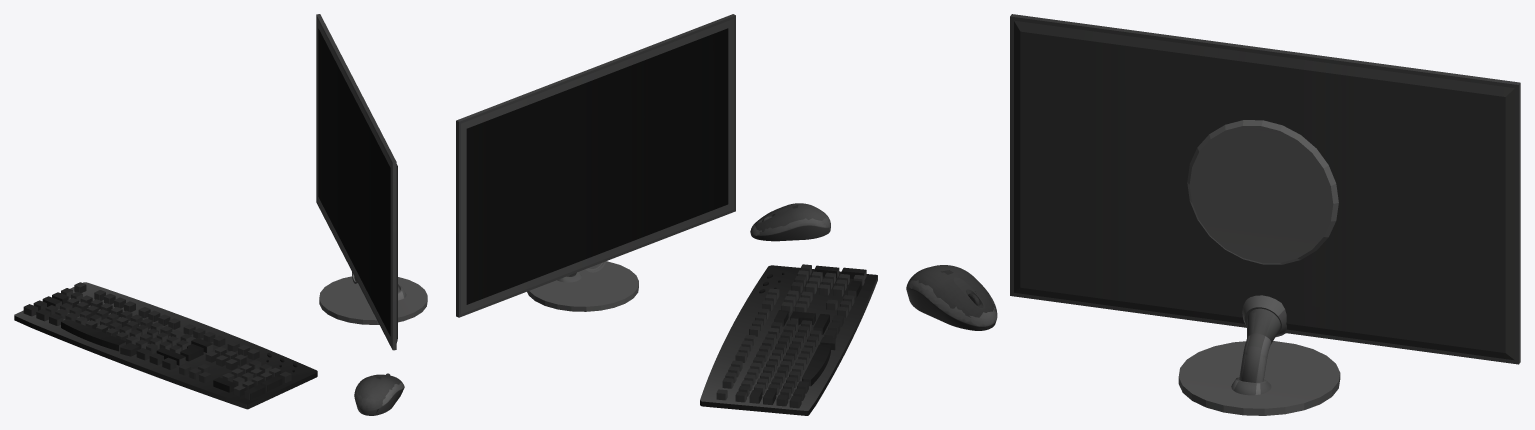
3 renders of one model, left to right at view 1: azimuth 30°, elevation 25°; view 2: azimuth 150°, elevation 25°; view 3: azimuth 270°, elevation 25°, orthographic. The views are drawn at different scales.
Parts seen in each view (by area): view 1: PCScreen, PCKeyboard, PCMouse; view 2: PCScreen, PCKeyboard, PCMouse; view 3: PCScreen, PCMouse.
Boxes of the visible parts, x1,y1,x2,y2 form: PCScreen: [316, 14, 427, 350]; PCKeyboard: [14, 282, 317, 409]; PCMouse: [354, 373, 404, 415]; PCScreen: [456, 14, 735, 317]; PCKeyboard: [700, 264, 877, 415]; PCMouse: [750, 203, 830, 241]; PCScreen: [1010, 14, 1520, 415]; PCMouse: [906, 265, 997, 330].
Bounding box in the file's own units: 116 × 71.29 × 124.
Materials: 1 (1 with a texture image).
